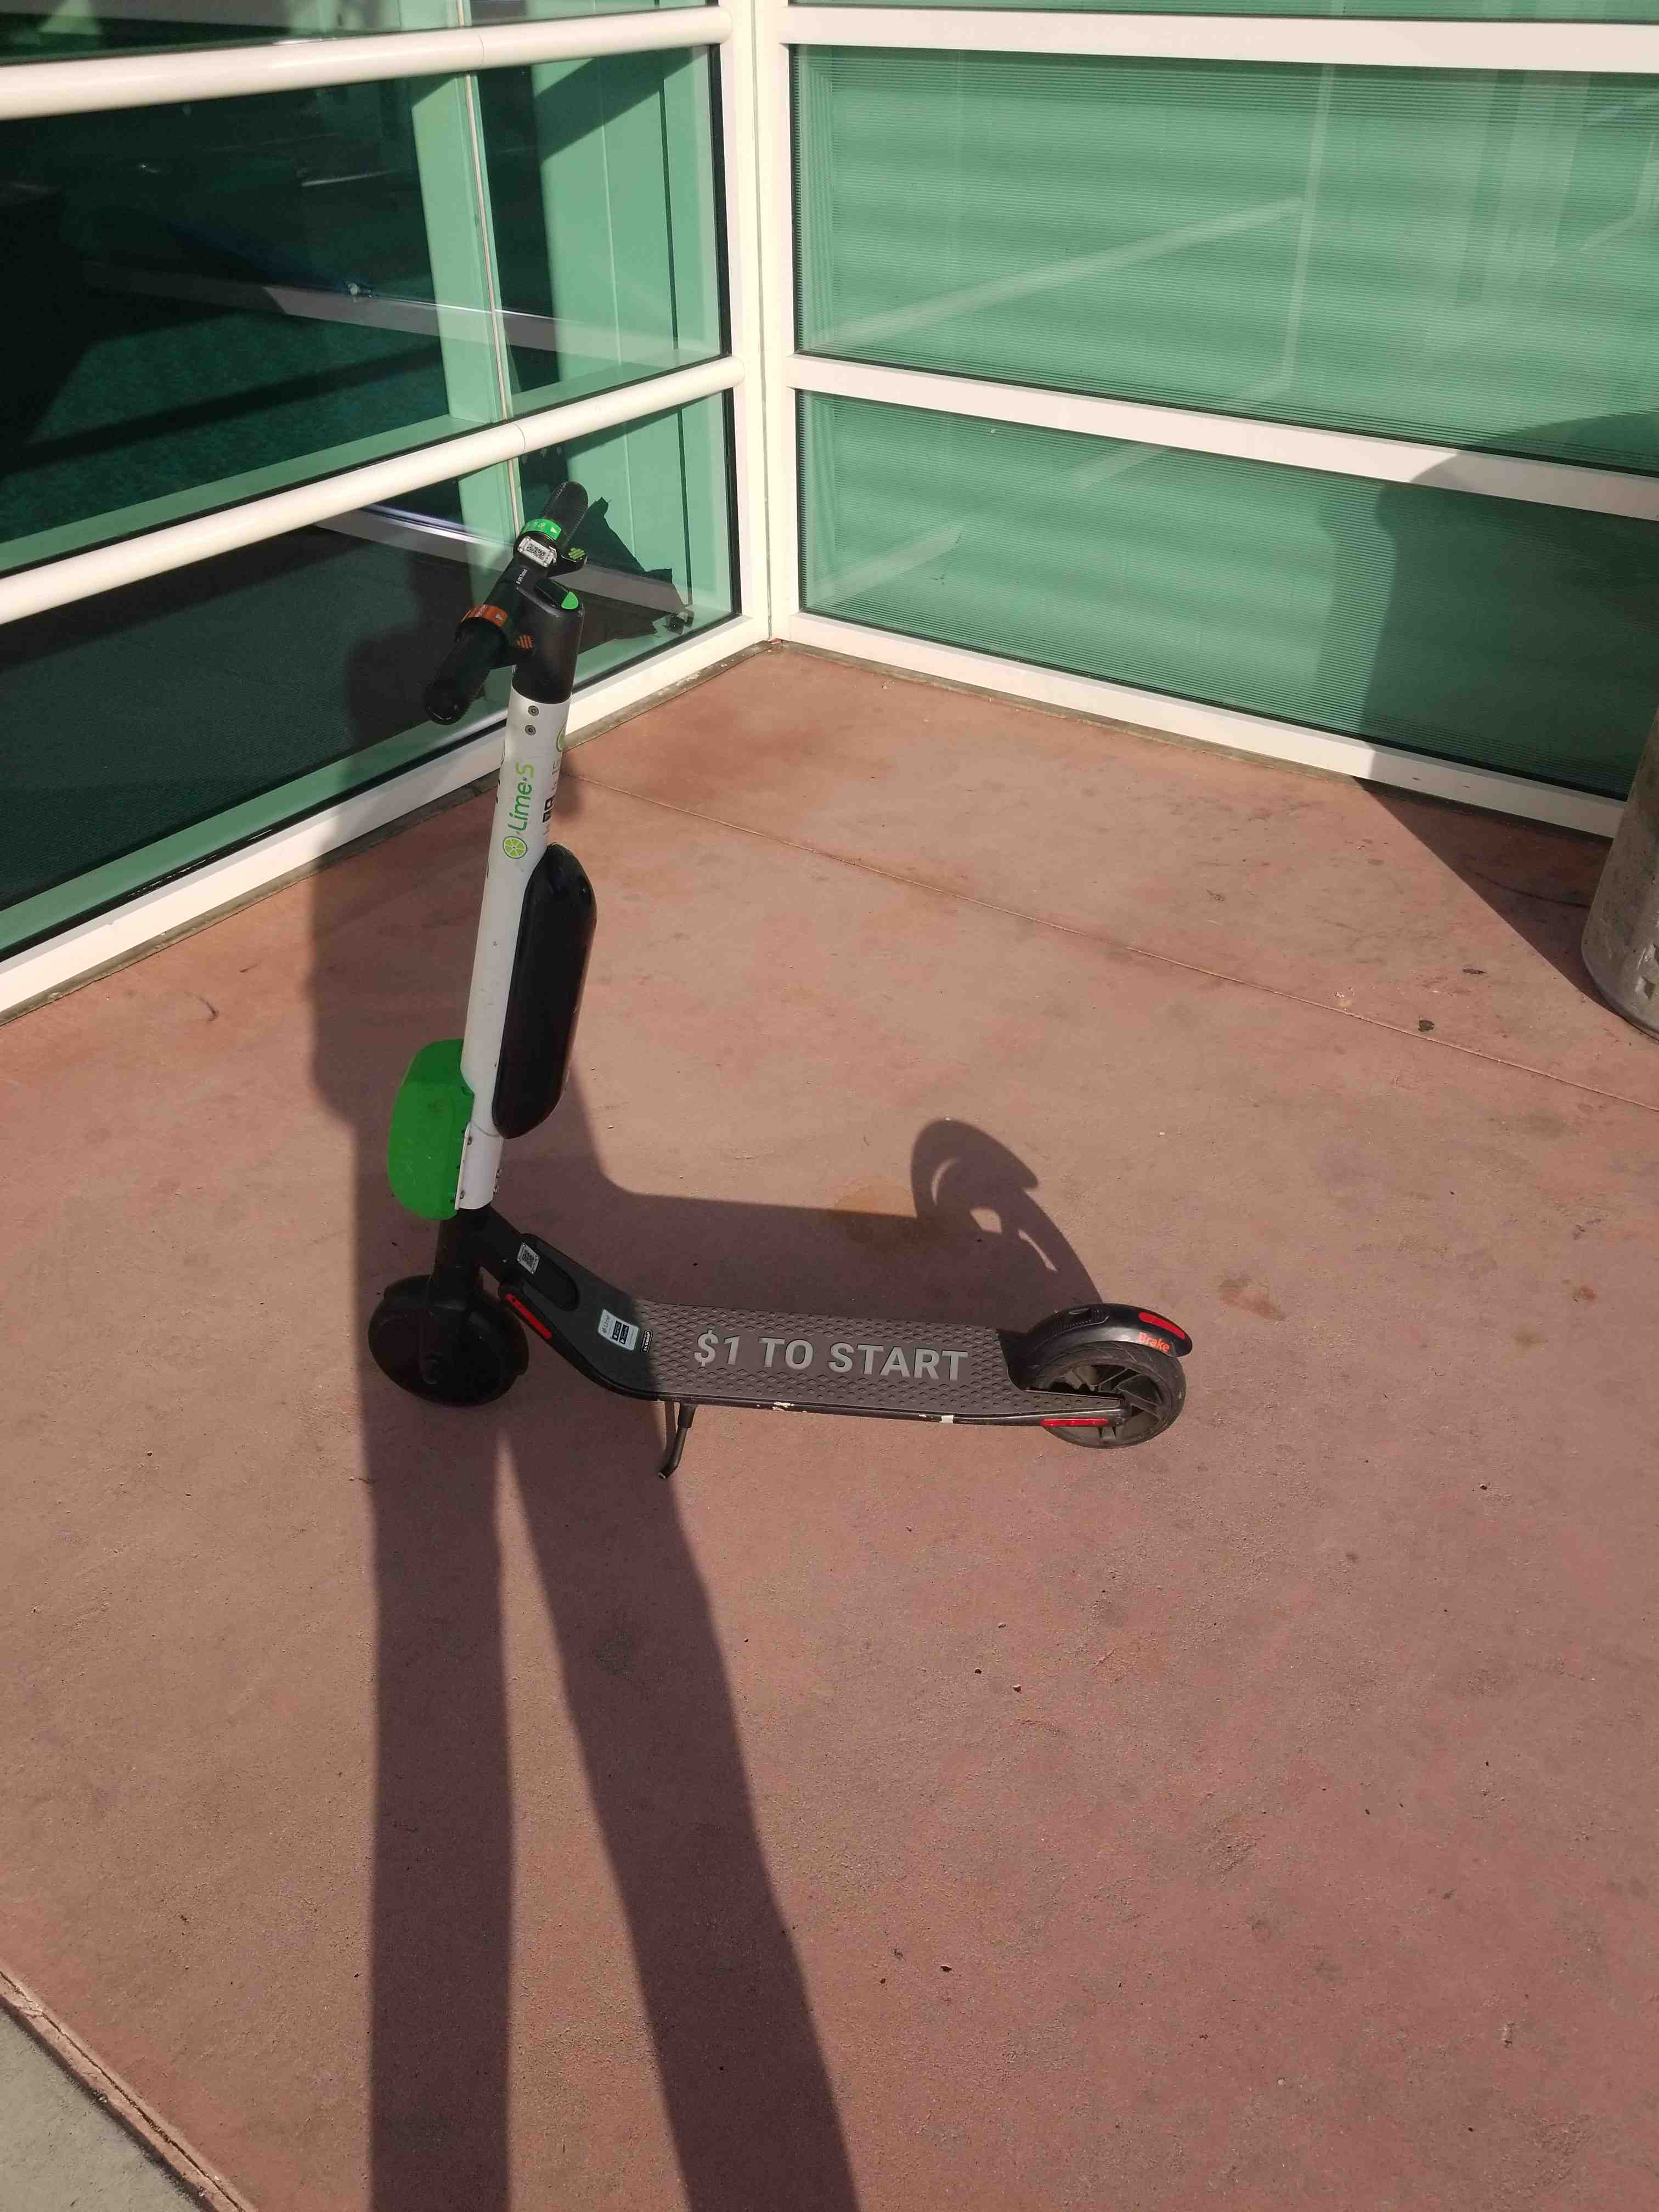scooter: (284, 435, 1270, 1442)
